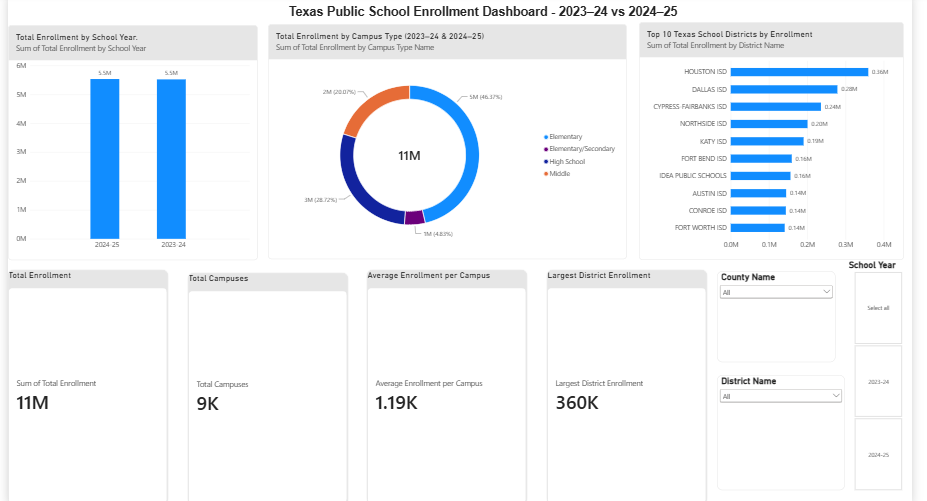

The dashboard page shown, as its layout file describes it:
{"tool":"powerbi","page":{"name":"Page 1","canvas":[1920,1080],"ordinal":0},"visuals":[{"type":"clusteredColumnChart","title":"Total Enrollment by School Year.","fields":{"Category":["Enrollment_All_Years.School Year"],"Y":["Sum(Enrollment_All_Years.Total Enrollment)"]},"box":[0,61.7,531.5,499.6],"z":0},{"type":"clusteredBarChart","title":"Top 10 Texas School Districts by Enrollment","fields":{"Category":["Enrollment_All_Years.District Name"],"Y":["Sum(Enrollment_All_Years.Total Enrollment)"]},"box":[1341.5,55.3,563.4,506],"z":1000},{"type":"donutChart","title":"Total Enrollment by Campus Type (2023–24 & 2024–25)","fields":{"Series":["Campus_Reference.Campus Type Name"],"Y":["Sum(Enrollment_All_Years.Total Enrollment)"]},"box":[553.7,58.5,763.2,499.6],"z":2000},{"type":"slicer","fields":{"Values":["Enrollment_All_Years.School Year"]},"box":[1779.4,561.3,140.3,491.1],"z":3000},{"type":"cardVisual","title":"Total Enrollment","fields":{"Data":["Sum(Enrollment_All_Years.Total Enrollment)"]},"box":[0,583,339.9,497.4],"z":4000},{"type":"cardVisual","title":"Total Campuses","fields":{"Data":["Enrollment_All_Years.Total Campuses"]},"box":[382.6,589.7,339.9,490.7],"z":5000},{"type":"cardVisual","title":"Average Enrollment per Campus","fields":{"Data":["Enrollment_All_Years.Average Enrollment per Campus"]},"box":[763,583,339.9,497.4],"z":6000},{"type":"cardVisual","title":"Largest District Enrollment","fields":{"Data":["Enrollment_All_Years.Largest District Enrollment"]},"box":[1145.7,583,339.9,497.4],"z":7000},{"type":"textbox","box":[99.9,99.9,380.6,48.9],"z":8000},{"type":"textbox","box":[480.5,0,1058.7,51],"z":9000},{"type":"slicer","fields":{"Values":["Campus_Reference.County Name"]},"box":[1508.1,585.2,252.1,193.6],"z":10000},{"type":"slicer","fields":{"Values":["Campus_Reference.District Name"]},"box":[1508.1,805.8,272.4,245.3],"z":10001}]}

Visuals, with their boxes on the page's 1920x1080 design canvas (x1, y1, x2, y2). These are canvas units, not pixel positions in the 927x501 screenshot, which may show the page scaled, cropped or inside an application window:
"Total Enrollment by School Year." clusteredColumnChart: (x1=0, y1=62, x2=532, y2=561)
"Top 10 Texas School Districts by Enrollment" clusteredBarChart: (x1=1342, y1=55, x2=1905, y2=561)
"Total Enrollment by Campus Type (2023–24 & 2024–25)" donutChart: (x1=554, y1=58, x2=1317, y2=558)
slicer - Enrollment_All_Years.School Year: (x1=1779, y1=561, x2=1920, y2=1052)
"Total Enrollment" cardVisual: (x1=0, y1=583, x2=340, y2=1080)
"Total Campuses" cardVisual: (x1=383, y1=590, x2=722, y2=1080)
"Average Enrollment per Campus" cardVisual: (x1=763, y1=583, x2=1103, y2=1080)
"Largest District Enrollment" cardVisual: (x1=1146, y1=583, x2=1486, y2=1080)
textbox: (x1=100, y1=100, x2=480, y2=149)
textbox: (x1=480, y1=0, x2=1539, y2=51)
slicer - Campus_Reference.County Name: (x1=1508, y1=585, x2=1760, y2=779)
slicer - Campus_Reference.District Name: (x1=1508, y1=806, x2=1780, y2=1051)
